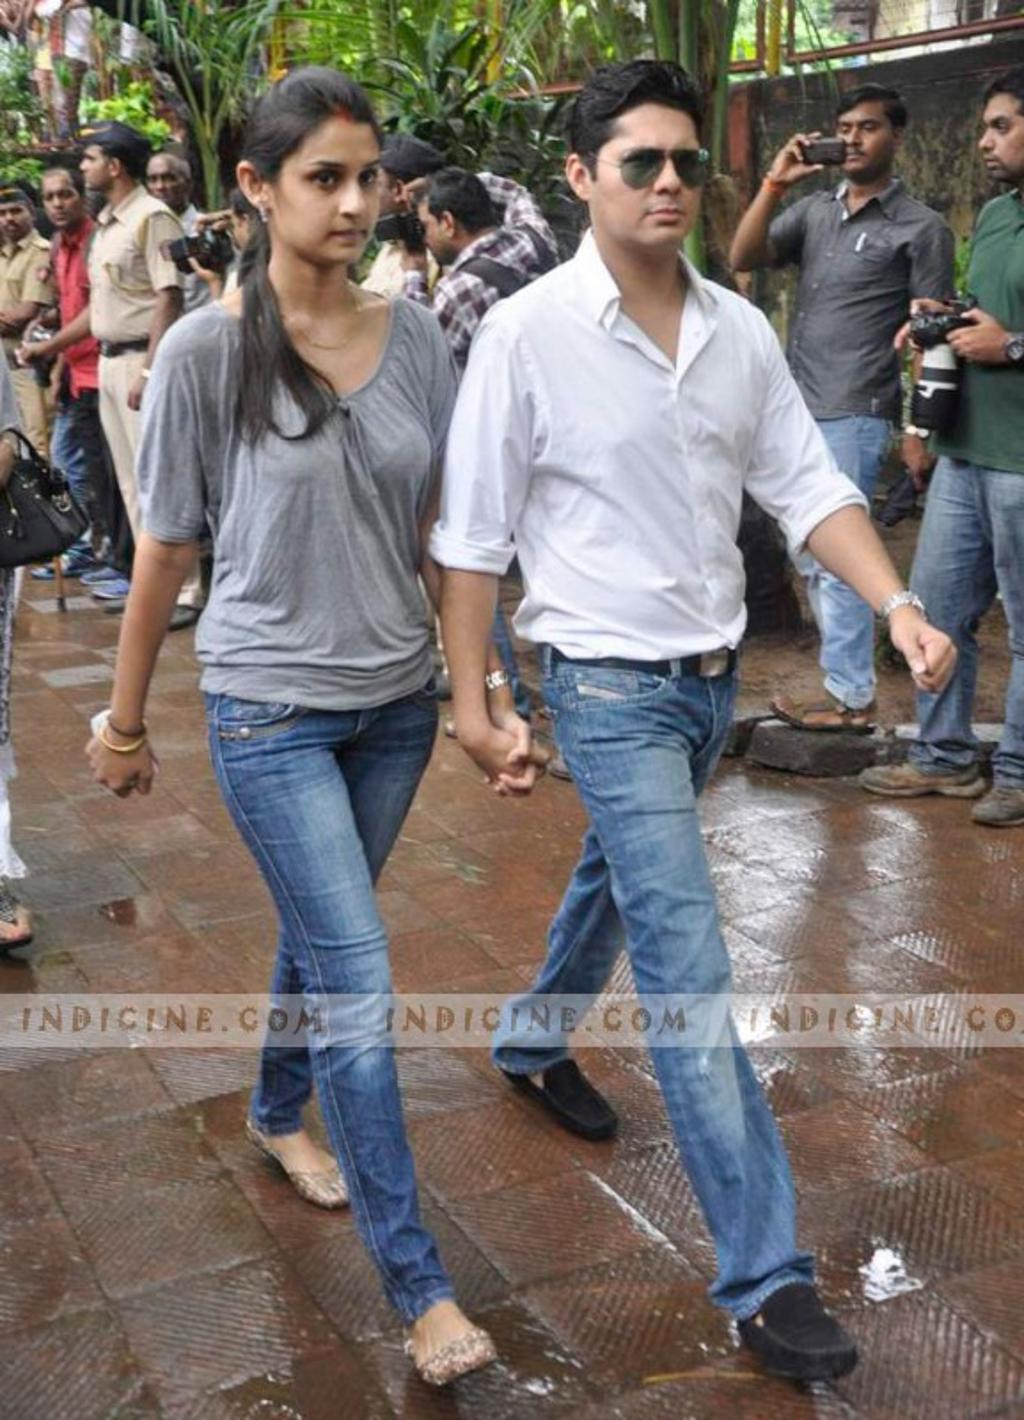face: (273, 124, 383, 262), (593, 115, 702, 244), (838, 104, 893, 171), (982, 101, 1024, 179), (419, 207, 456, 266), (364, 170, 398, 232), (42, 177, 80, 227), (233, 209, 263, 263), (146, 165, 185, 207), (81, 147, 110, 191), (1, 202, 31, 237)
